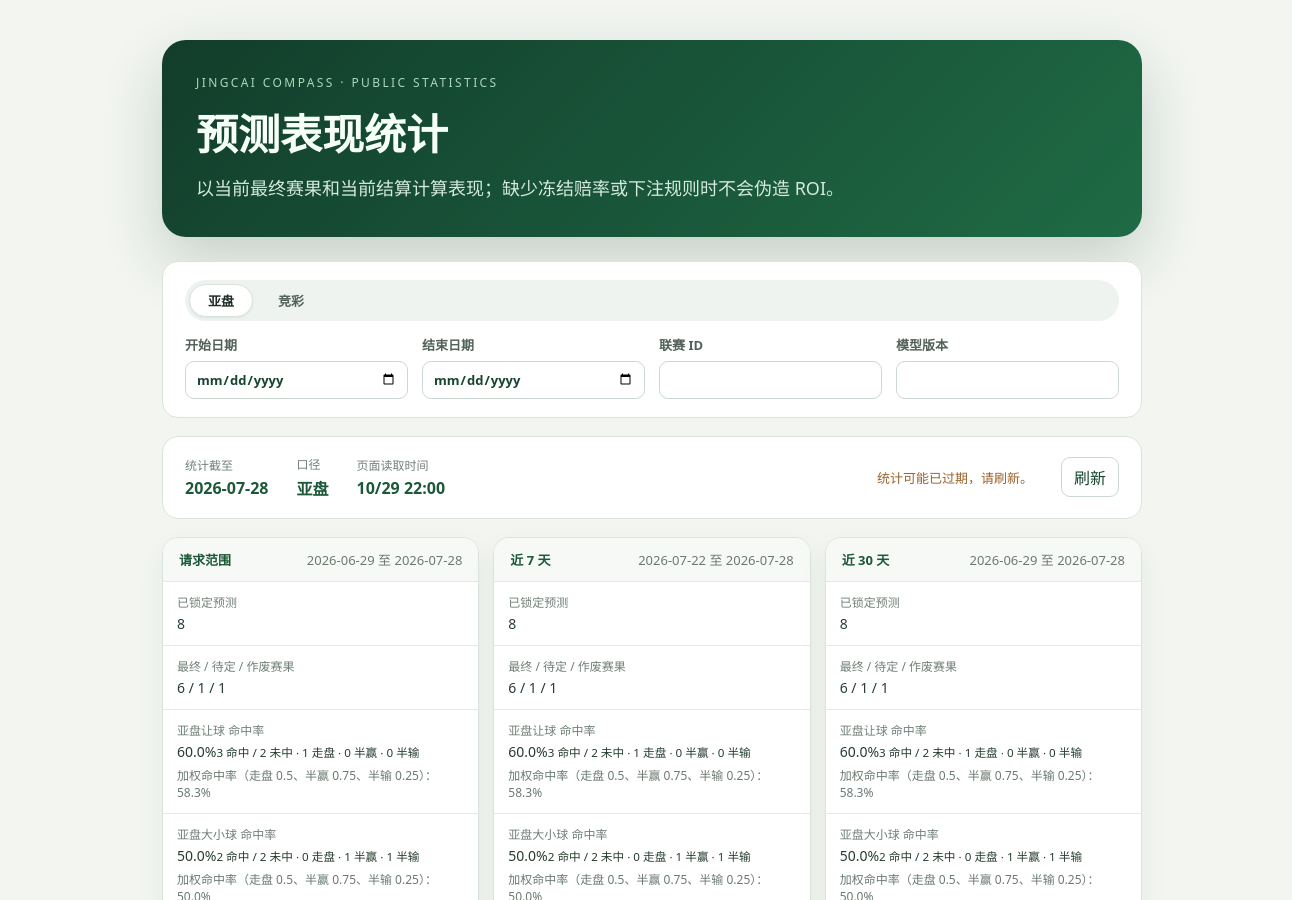
StatisticsPage › requests one product line at a time and records the switch in the URL
The image size is (1292, 900).
Expected: the text "请求范围" is shown, [179,550,231,569]
Click the tab "竞彩" at (291, 300), box [259,284,323,317]
(page scrolled)
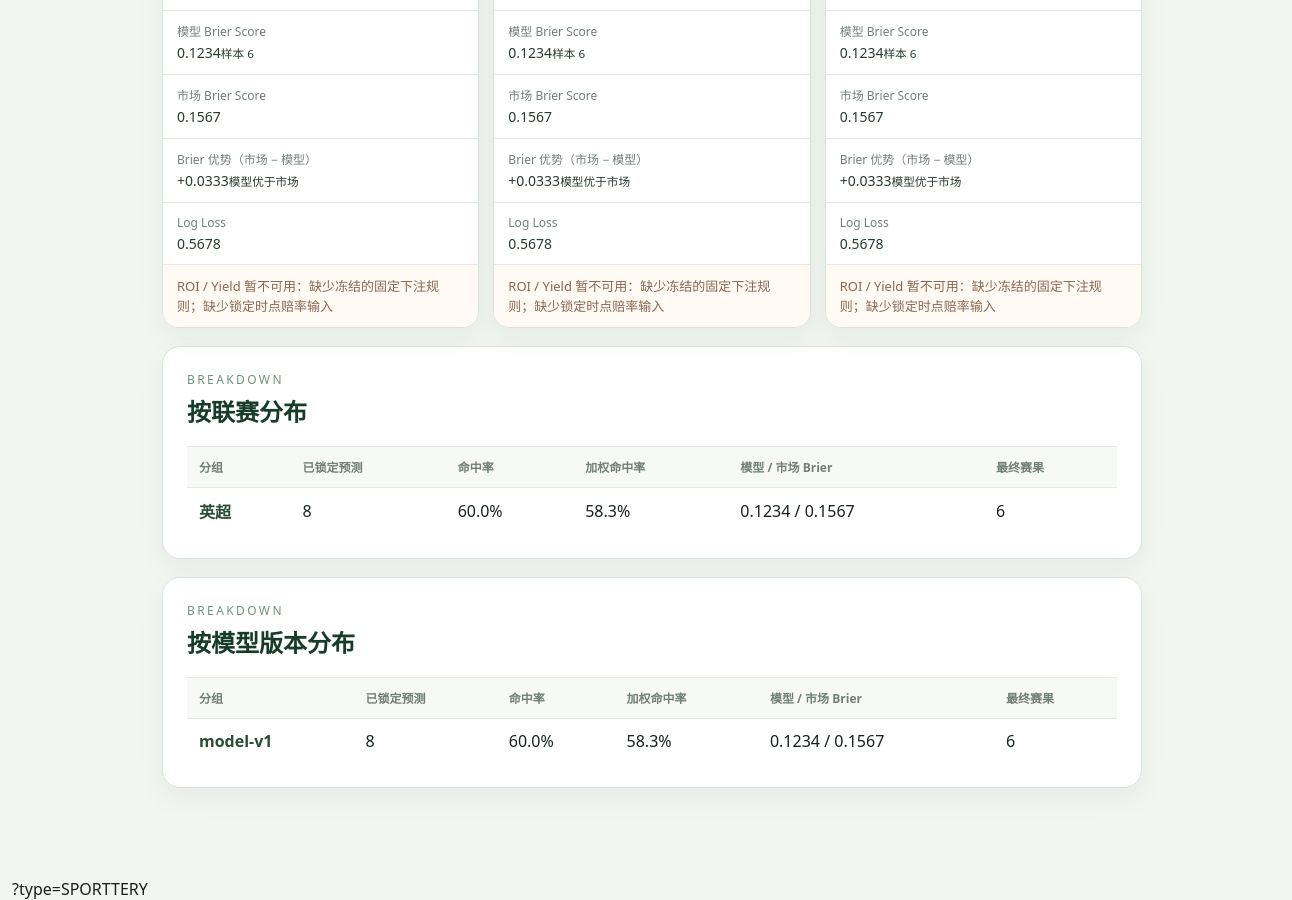
Expected: the text with test id "location" shows "type=SPORTTERY", [12,878,148,899]
